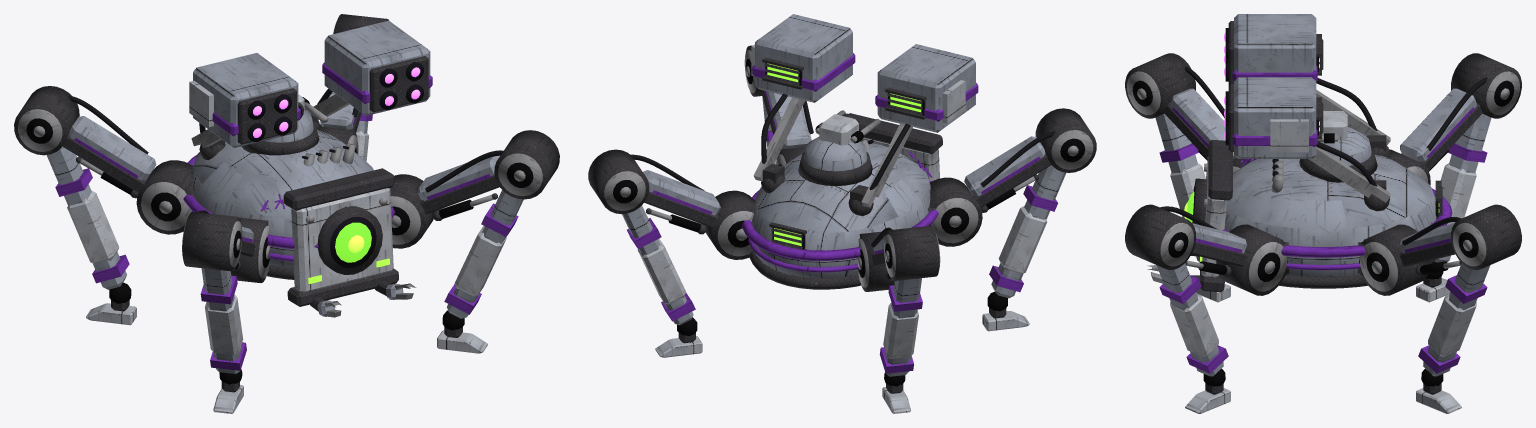
The model's file is alien_skitter.glb.
3 views of the same model, side by side, from view 1: azimuth 30°, elevation 25°; view 2: azimuth 150°, elevation 25°; view 3: azimuth 270°, elevation 25° (orthographic). The views are drawn at different scales.
Visible parts, largest first — view 1: body_skitter_armor, body_skitter_frame, pod_L_skitter_armor, body_skitter_armor2, pod_R_skitter_armor, leg_R1_tibia_skitter_frame, leg_R2_femur_skitter_frame, leg_L1_femur_skitter_frame, leg_R2_femur_skitter_armor, leg_R2_tibia_skitter_armor2, leg_L1_tibia_skitter_frame, pod_R_skitter_frame (+35 smaller); view 2: body_skitter_armor, pod_L_skitter_armor, pod_R_skitter_armor, body_skitter_frame, body_skitter_livery, leg_R2_tibia_skitter_frame, leg_R1_femur_skitter_frame, leg_L2_femur_skitter_frame, leg_R1_tibia_skitter_armor2, leg_L2_tibia_skitter_frame, turret_1_skitter_armor, leg_R1_tibia_skitter_frame (+32 smaller); view 3: body_skitter_armor, pod_L_skitter_armor, pod_R_skitter_armor, body_skitter_frame, leg_L1_tibia_skitter_frame, leg_L2_tibia_skitter_frame, leg_L1_femur_skitter_frame, leg_L2_femur_skitter_frame, leg_R2_femur_skitter_armor, leg_R1_tibia_skitter_frame, leg_R2_tibia_skitter_frame, leg_L1_tibia_skitter_armor2 (+43 smaller).
Part boxes in pixels (bbox=[...]): body_skitter_armor: bbox=[192, 129, 373, 267]; body_skitter_frame: bbox=[267, 168, 398, 306]; pod_L_skitter_armor: bbox=[324, 20, 430, 115]; body_skitter_armor2: bbox=[291, 188, 393, 292]; pod_R_skitter_armor: bbox=[193, 53, 298, 147]; leg_R1_tibia_skitter_frame: bbox=[182, 212, 240, 271]; leg_R2_femur_skitter_frame: bbox=[62, 134, 193, 234]; leg_L1_femur_skitter_frame: bbox=[389, 174, 499, 248]; leg_R2_femur_skitter_armor: bbox=[69, 116, 156, 180]; leg_R2_tibia_skitter_armor2: bbox=[67, 190, 119, 264]; leg_L1_tibia_skitter_frame: bbox=[492, 130, 559, 199]; pod_R_skitter_frame: bbox=[199, 88, 296, 159]; body_skitter_armor: bbox=[751, 143, 930, 278]; pod_L_skitter_armor: bbox=[755, 14, 852, 102]; pod_R_skitter_armor: bbox=[877, 44, 975, 132]; body_skitter_frame: bbox=[749, 113, 942, 289]; body_skitter_livery: bbox=[741, 151, 938, 272]; leg_R2_tibia_skitter_frame: bbox=[885, 225, 939, 281]; leg_R1_femur_skitter_frame: bbox=[929, 153, 1051, 246]; leg_L2_femur_skitter_frame: bbox=[644, 190, 754, 259]; leg_R1_tibia_skitter_armor2: bbox=[998, 206, 1047, 274]; leg_L2_tibia_skitter_frame: bbox=[588, 149, 651, 214]; turret_1_skitter_armor: bbox=[803, 136, 867, 171]; leg_R1_tibia_skitter_frame: bbox=[1033, 108, 1096, 180]; body_skitter_armor: bbox=[1224, 155, 1436, 277]; pod_L_skitter_armor: bbox=[1234, 77, 1316, 158]; pod_R_skitter_armor: bbox=[1234, 14, 1316, 72]; body_skitter_frame: bbox=[1193, 139, 1442, 292]; leg_L1_tibia_skitter_frame: bbox=[1125, 204, 1195, 269]; leg_L2_tibia_skitter_frame: bbox=[1451, 204, 1521, 269]; leg_L1_femur_skitter_frame: bbox=[1191, 224, 1285, 295]; leg_L2_femur_skitter_frame: bbox=[1361, 224, 1455, 295]; leg_R2_femur_skitter_armor: bbox=[1400, 88, 1476, 162]; leg_R1_tibia_skitter_frame: bbox=[1125, 53, 1195, 132]; leg_R2_tibia_skitter_frame: bbox=[1451, 53, 1521, 132]; leg_L1_tibia_skitter_armor2: bbox=[1170, 294, 1218, 356].
Bounding box in the file's own units: 8.06 × 6 × 7.46.
Materials: 12 (6 with a texture image).
